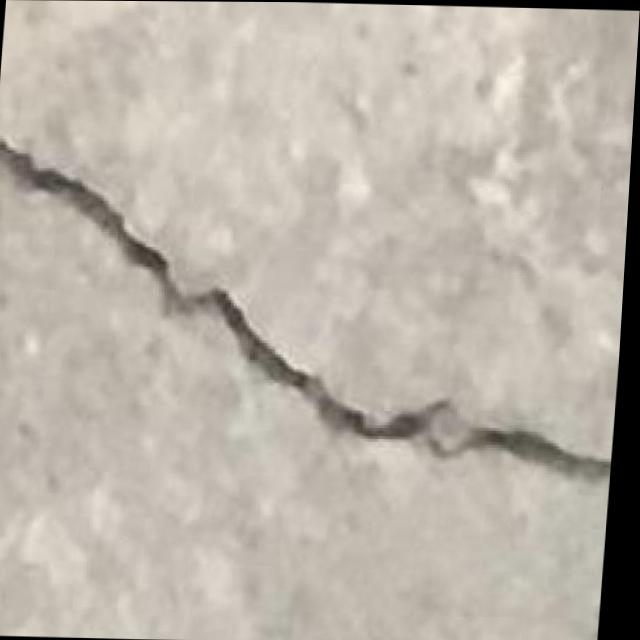Crack: (0, 123, 634, 496)
